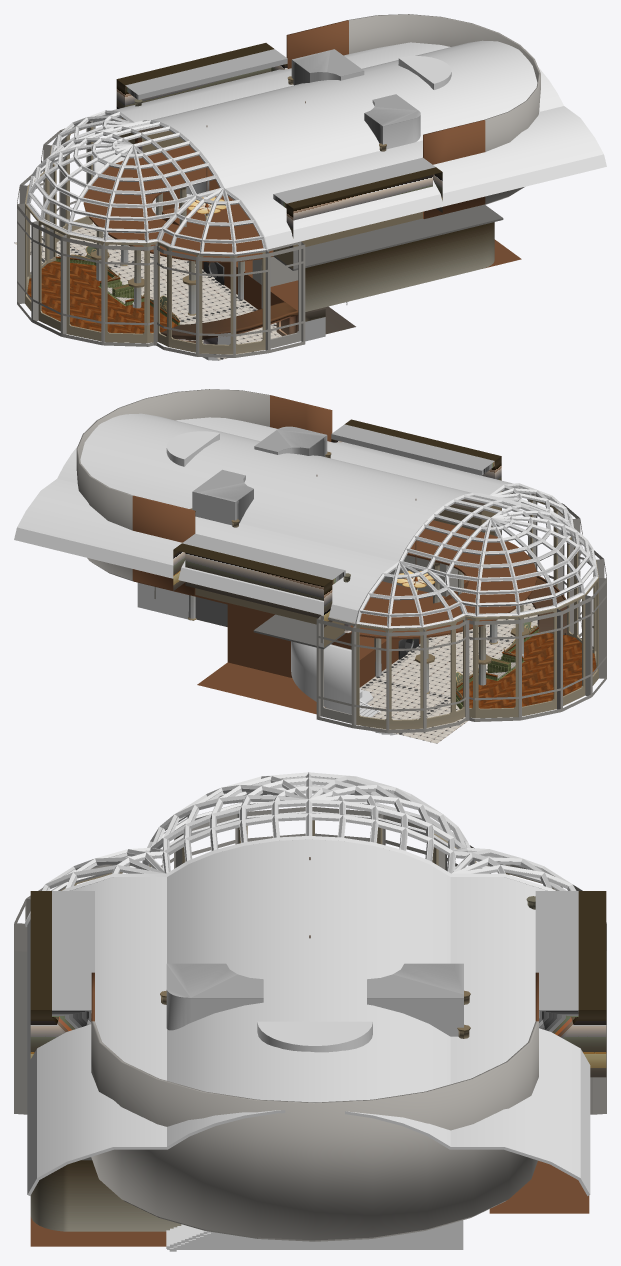
File: ResturantBlockout_v6.fbx
3 renders of one model, top to bottom at view 1: azimuth 30°, elevation 25°; view 2: azimuth 150°, elevation 25°; view 3: azimuth 270°, elevation 25°, orthographic. The views are drawn at different scales.
Parts seen in each view (by area): view 1: Roof1_1, Plane.016, Roof1, Cylinder.025, Pilars.007, Cylinder.004, Plane.023, Roof1.001, Pilars.017, Pilars.015, Cylinder.008, Plane.015 (+11 smaller); view 2: Roof1_1, Plane.016, Roof1, Cylinder.025, Cylinder.004, Pilars.015, Plane.023, Plane.004, Roof1.001, Cylinder.008, Pilars.002, Pilars.017 (+9 smaller); view 3: Roof1_1, Plane.016, Roof1, Pilars.015, Pilars.002, Pilars.017, Roof1.001, Pilars.007, Cylinder.025, Plane.004, Cube.028, Cylinder.001 (+2 smaller).
Part boxes in pixels (x1,y1,x2,y2): Roof1_1: [96, 40, 606, 249]; Plane.016: [286, 14, 540, 218]; Roof1: [26, 110, 267, 255]; Cylinder.025: [17, 120, 305, 357]; Pilars.007: [305, 222, 494, 311]; Cylinder.004: [25, 118, 301, 354]; Plane.023: [83, 145, 524, 262]; Roof1.001: [29, 112, 264, 252]; Pilars.017: [273, 157, 442, 268]; Pilars.015: [116, 43, 287, 152]; Cylinder.008: [14, 223, 281, 359]; Plane.015: [27, 260, 179, 333]; Roof1_1: [14, 413, 528, 622]; Plane.016: [76, 389, 332, 595]; Roof1: [355, 483, 598, 628]; Cylinder.025: [316, 493, 606, 733]; Cylinder.004: [320, 491, 598, 729]; Pilars.015: [173, 533, 345, 647]; Plane.023: [94, 520, 536, 639]; Plane.004: [197, 574, 468, 714]; Roof1.001: [359, 485, 595, 626]; Cylinder.008: [360, 598, 537, 743]; Pilars.002: [192, 426, 327, 626]; Pilars.017: [331, 419, 501, 531]; Roof1_1: [27, 839, 590, 1195]; Plane.016: [91, 972, 538, 1240]; Roof1: [25, 772, 576, 926]; Pilars.015: [535, 891, 606, 1077]; Pilars.002: [166, 963, 463, 1036]; Pilars.017: [30, 891, 94, 1058]; Roof1.001: [46, 776, 570, 890]; Pilars.007: [30, 1160, 181, 1231]; Cylinder.025: [14, 807, 606, 1114]; Plane.004: [30, 1160, 589, 1246]; Cube.028: [167, 1220, 463, 1249]; Cylinder.001: [257, 1021, 372, 1052].
Bounding box in the file's own units: 29998 × 11568 × 19295.
